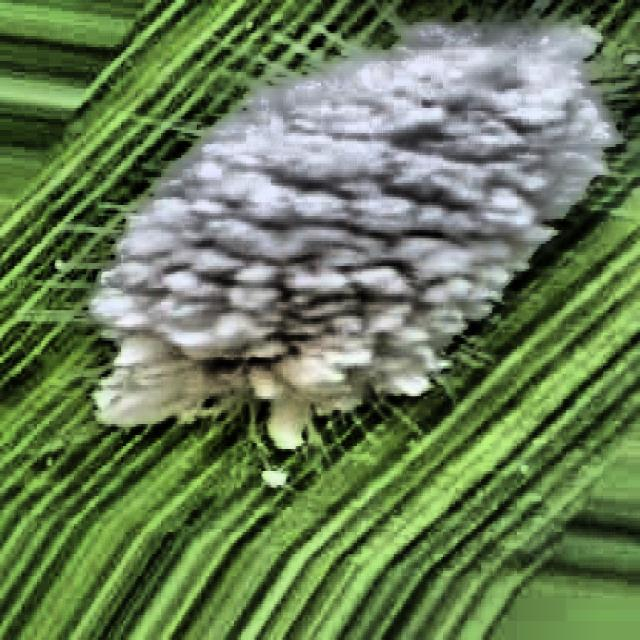Mealy-bug: (67, 5, 636, 581)
